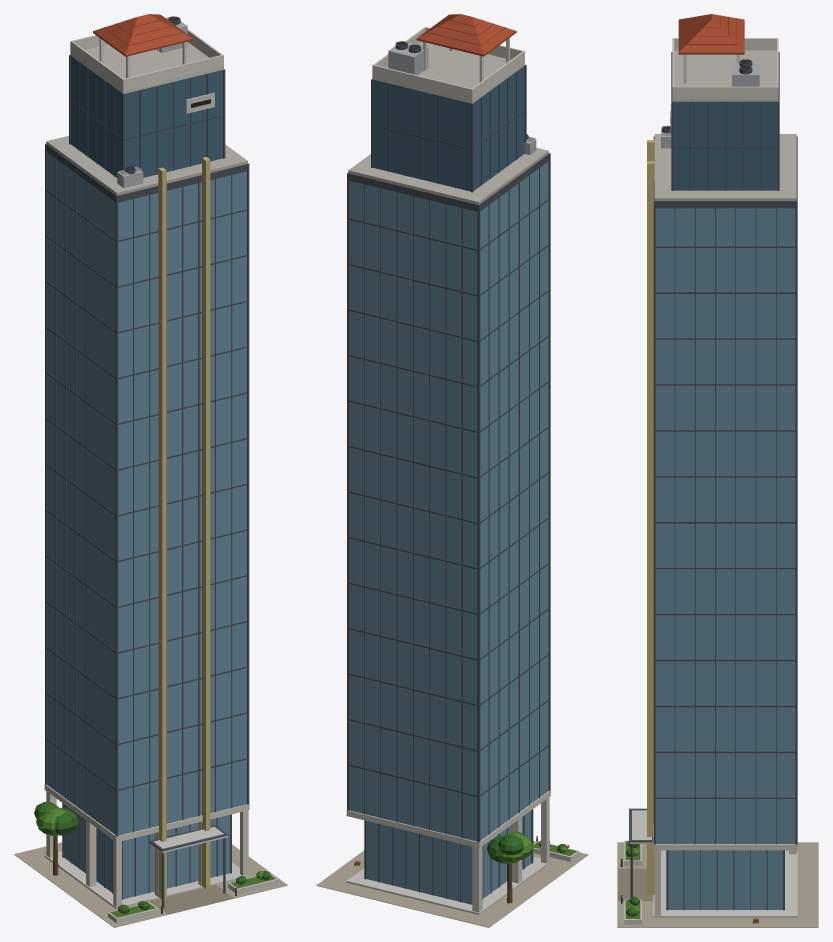
Rendered from shop_4.glb.
3 views of the same model, side by side, from view 1: azimuth 30°, elevation 25°; view 2: azimuth 150°, elevation 25°; view 3: azimuth 270°, elevation 25° (orthographic).
Parts seen in each view (by area): view 1: body; view 2: body; view 3: body.
Part boxes in pixels (bbox=[...]): body: bbox=[14, 14, 287, 927]; body: bbox=[316, 14, 588, 927]; body: bbox=[617, 14, 818, 927].
Bounding box in the file's own units: 16.66 × 75.5 × 15.9.
